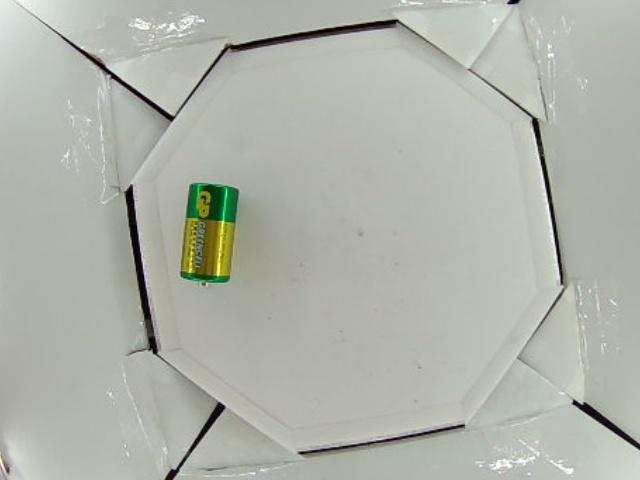Battery: (177, 181, 238, 286)
